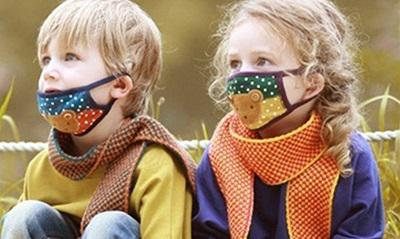OK: (226, 48, 303, 125)
WRONG: (35, 46, 117, 128)
